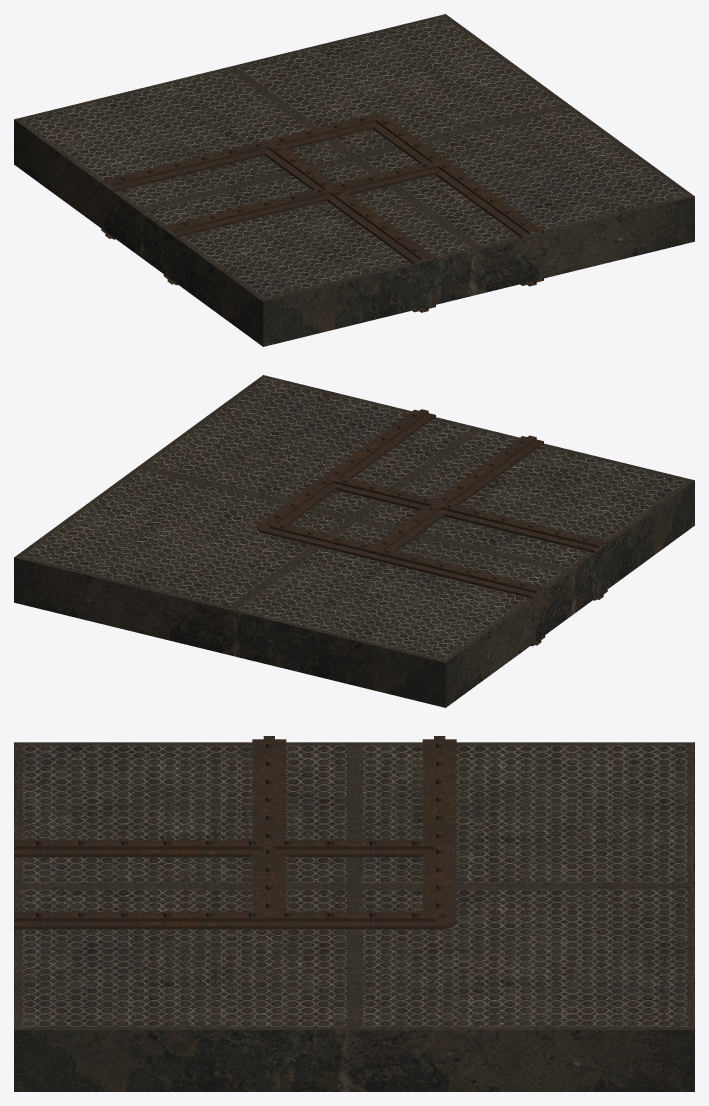
The model's file is floor_ceiling_rtx_1_corner.dae.
3 renders of one model, top to bottom at view 1: azimuth 30°, elevation 25°; view 2: azimuth 150°, elevation 25°; view 3: azimuth 270°, elevation 25°, orthographic. The views are drawn at different scales.
Visible parts, largest first — view 1: floor_ceiling_rtx_1_corner; view 2: floor_ceiling_rtx_1_corner; view 3: floor_ceiling_rtx_1_corner.
Part boxes in pixels (x1,y1,x2,y2): floor_ceiling_rtx_1_corner: [14, 14, 694, 346]; floor_ceiling_rtx_1_corner: [14, 375, 694, 707]; floor_ceiling_rtx_1_corner: [14, 736, 694, 1091].
Size of the model in its own units: 4 by 4 by 0.5303.
3 materials, 3 textured.
